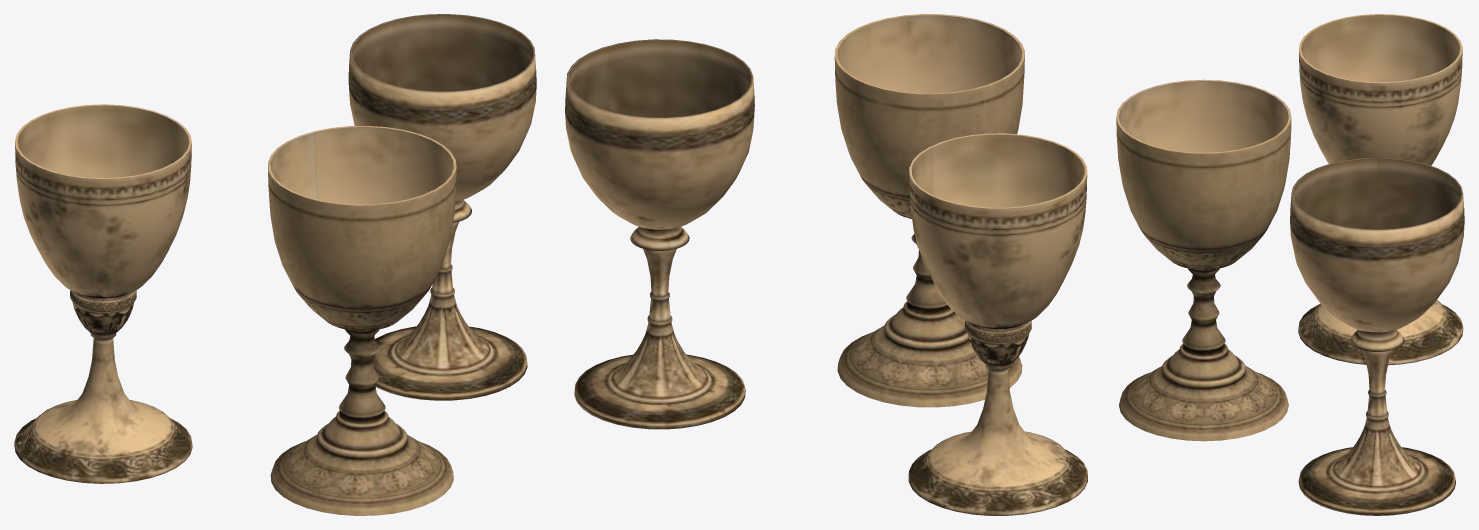
The model's file is brass_goblets_1k.gltf.
3 renders of one model, left to right at view 1: azimuth 30°, elevation 25°; view 2: azimuth 150°, elevation 25°; view 3: azimuth 270°, elevation 25°, orthographic. The views are drawn at different scales.
Parts seen in each view (by area): view 1: brass_goblet_01, brass_goblet_02, brass_goblet_03; view 2: brass_goblet_02, brass_goblet_03, brass_goblet_01; view 3: brass_goblet_01, brass_goblet_03, brass_goblet_02.
Part boxes in pixels (x1,y1,x2,y2): brass_goblet_01: [268, 126, 456, 515]; brass_goblet_02: [14, 104, 192, 483]; brass_goblet_03: [348, 14, 536, 400]; brass_goblet_02: [908, 133, 1087, 515]; brass_goblet_03: [565, 39, 754, 429]; brass_goblet_01: [834, 14, 1024, 407]; brass_goblet_01: [1116, 79, 1291, 441]; brass_goblet_03: [1290, 157, 1464, 515]; brass_goblet_02: [1298, 14, 1463, 365].
Size of the model in its own units: 0.4534 by 0.2734 by 0.2976.
3 materials, 3 textured.
